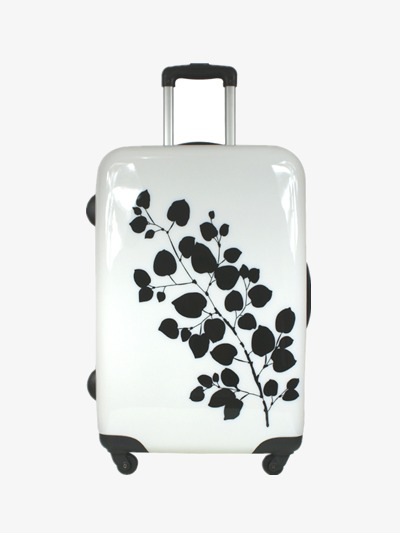box: (96, 145, 306, 454)
wheel: (116, 452, 138, 474), (262, 455, 284, 475)
